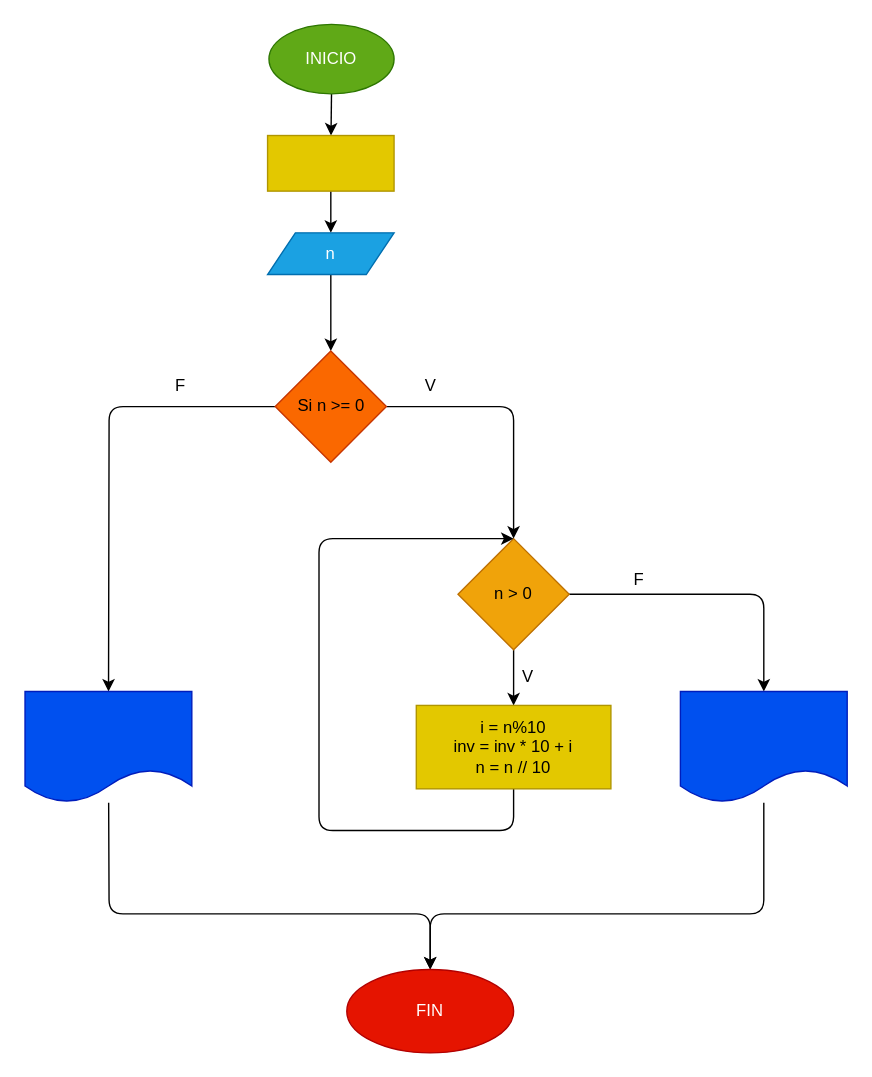
The diagram is 872 pixels wide and 1077 high, and some of its shapes have lost their labels. The shapes that lost their labels are listed below. From the top down, each one's centre as x and y in pixels, then its label:
[330,162]: inv = 0
[108,746]: El valor que digitó no es positivo
[763,746]: inv
